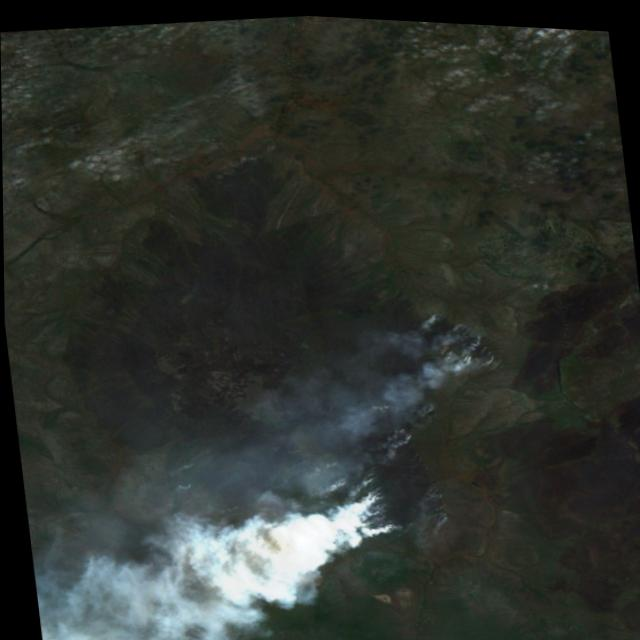fire: (169, 404, 451, 564), (409, 295, 510, 384)
